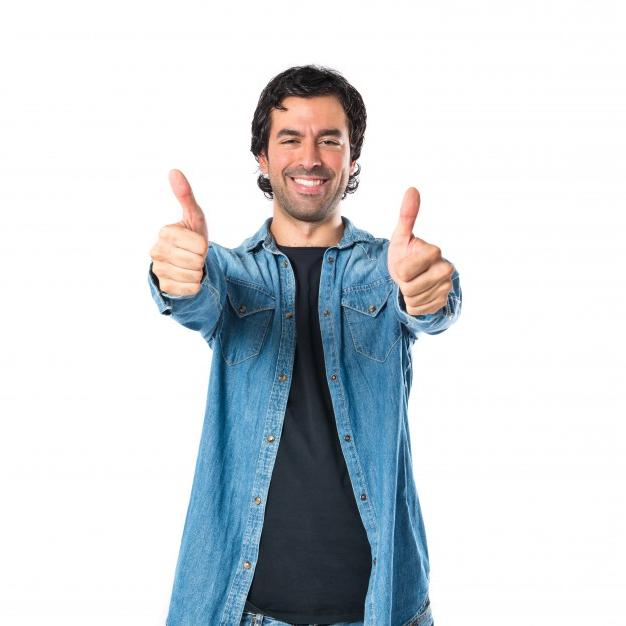thumbsup: (395, 187, 455, 315), (150, 168, 208, 297)
